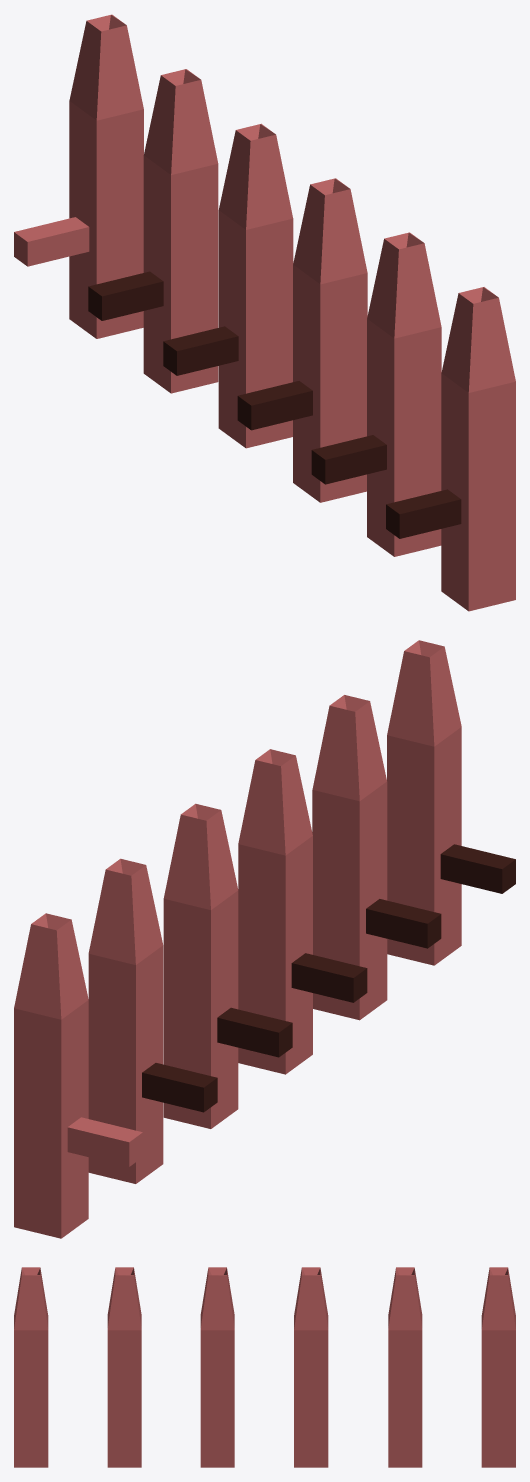
3 renders of one model, top to bottom at view 1: azimuth 30°, elevation 25°; view 2: azimuth 150°, elevation 25°; view 3: azimuth 270°, elevation 25°, orthographic. The views are drawn at different scales.
Parts seen in each view (by area): view 1: Box018; view 2: Box018; view 3: Box018.
Part boxes in pixels (bbox=[...]): Box018: bbox=[14, 14, 515, 611]; Box018: bbox=[14, 640, 515, 1238]; Box018: bbox=[14, 1267, 515, 1467].
Bounding box in the file's own units: 46.07 × 122 × 293.
